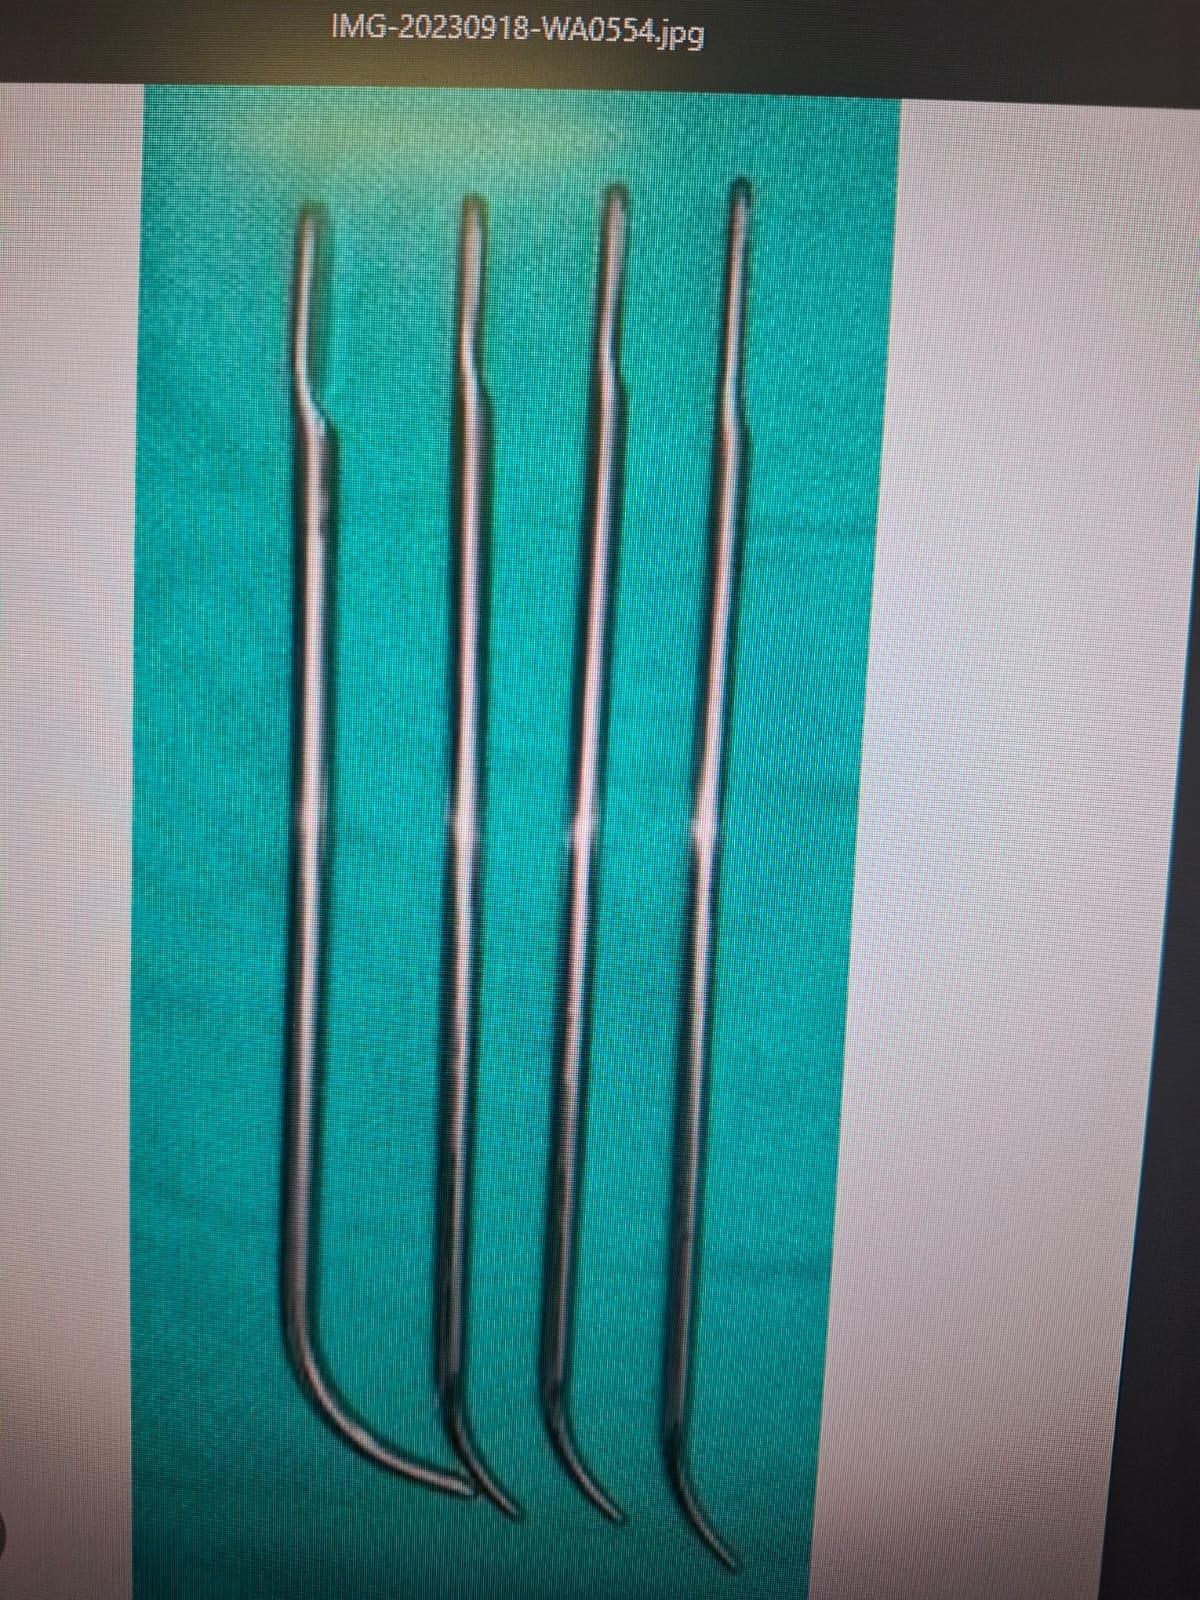Urethral Dilators: (229, 185, 498, 1516), (389, 180, 570, 1542), (518, 178, 695, 1542), (635, 163, 785, 1585)
